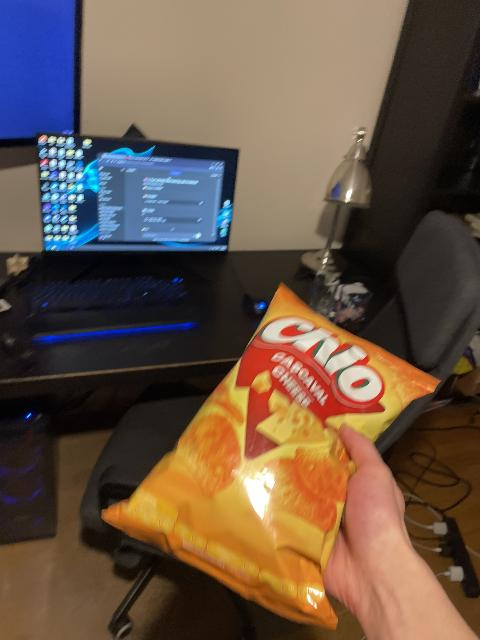Chio Cascaval 125g: (103, 284, 440, 628)
